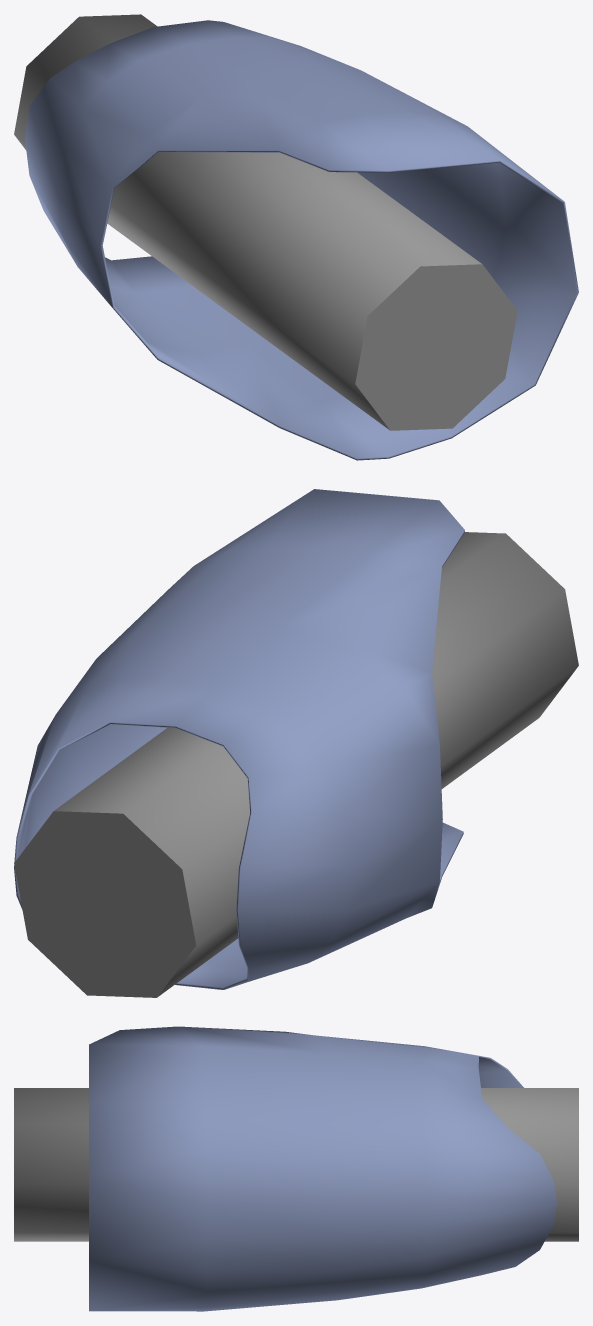
Rendered from icub_simple_r_forearm.dae.
3 views of the same model, one above another, from view 1: azimuth 30°, elevation 25°; view 2: azimuth 150°, elevation 25°; view 3: azimuth 270°, elevation 25° (orthographic). The views are drawn at different scales.
Visible parts, largest first — view 1: r_forearm_mesh; view 2: r_forearm_mesh; view 3: r_forearm_mesh.
Boxes of the visible parts, x1=… form: r_forearm_mesh: x1=14, y1=14, x2=578, y2=460; r_forearm_mesh: x1=14, y1=489, x2=578, y2=997; r_forearm_mesh: x1=14, y1=1026, x2=578, y2=1311.
Bounding box in the file's own units: 0.0795 × 0.0652 × 0.14.
